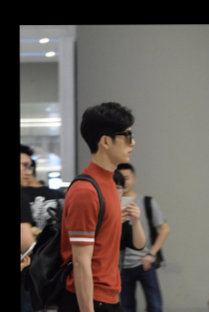without_mask: (106, 128, 136, 166), (115, 174, 135, 194), (20, 159, 33, 189)
